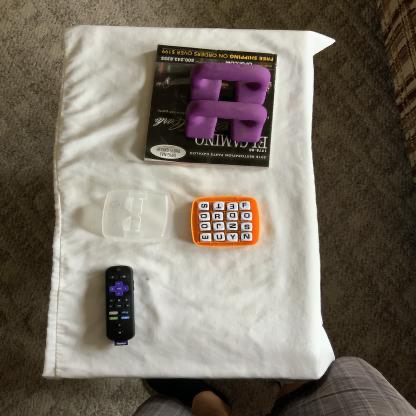d: (228, 213, 239, 221), (200, 214, 210, 221)
e: (201, 234, 212, 242), (228, 204, 239, 211)
f: (241, 202, 251, 211)
j: (215, 223, 225, 231)
n: (227, 223, 238, 231), (242, 234, 253, 242)
o: (243, 213, 253, 221), (201, 223, 211, 231)
r: (213, 213, 224, 221)
s: (242, 224, 253, 232), (200, 203, 210, 211)
t: (215, 203, 225, 211)
u: (215, 234, 226, 242)
y: (228, 235, 239, 242)
